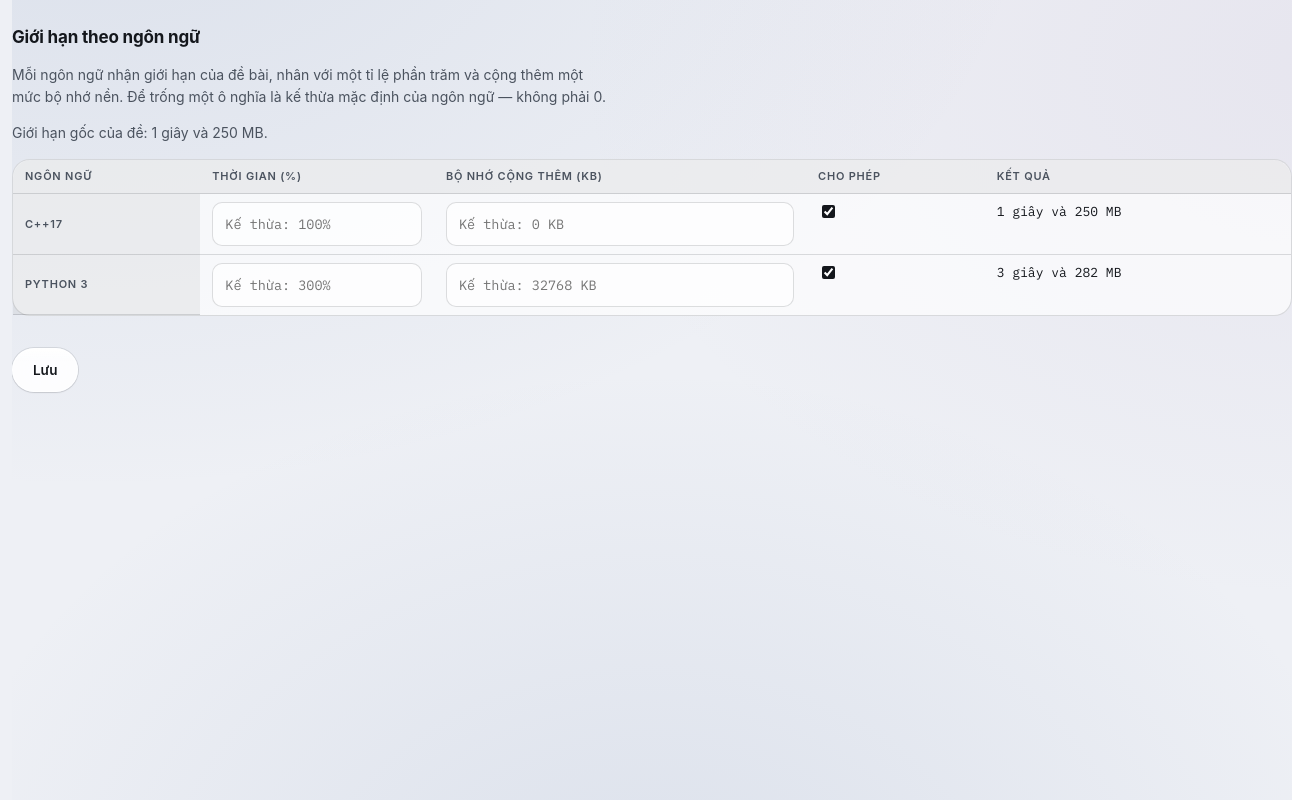
Test: the language-limits tab while a co-setter is saving (D176) › sends the version it was seeded with, and offers the newer one when the save is refused
The width and height of the screenshot is (1292, 800).
Step 1. Type "150" into the number field named "Tỉ lệ thời gian cho C++17, tính theo phần trăm" → [317, 224], box [212,202,422,246]
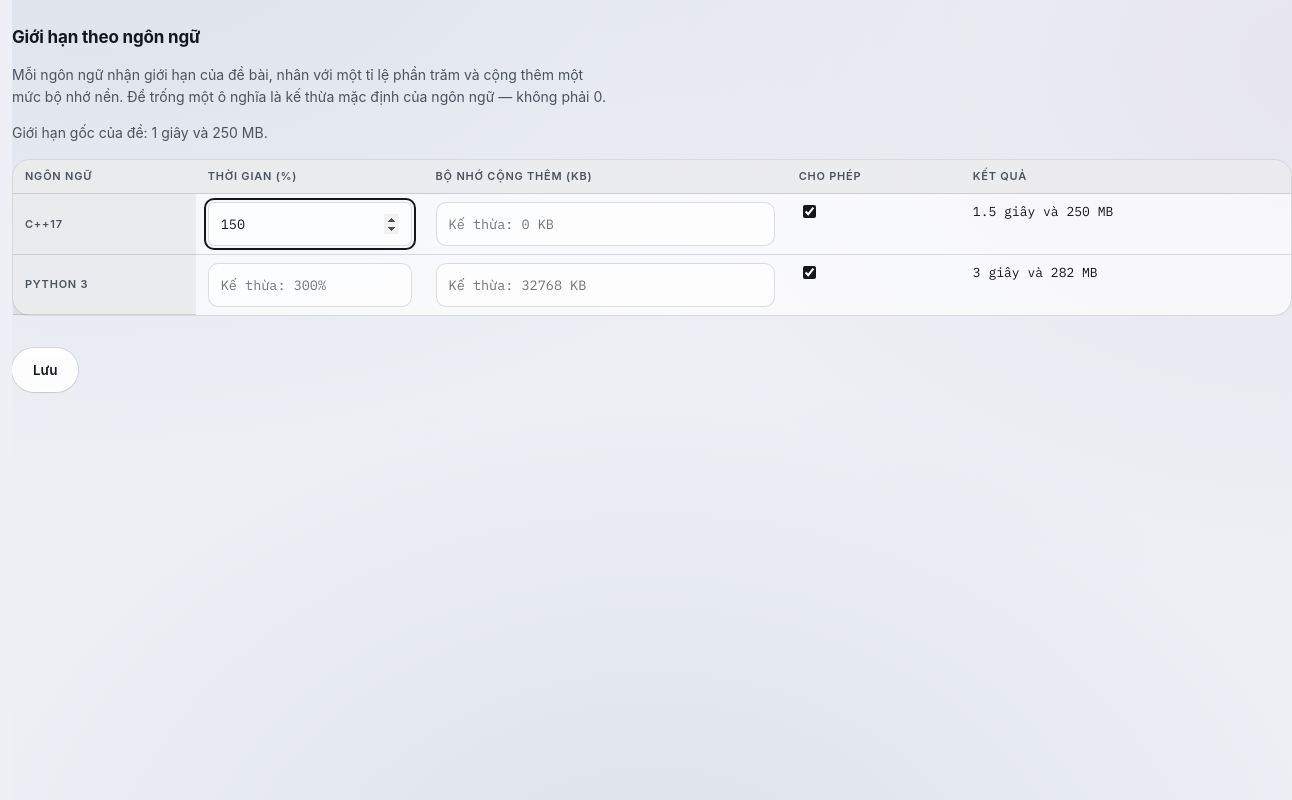
Step 2. Click the button "Lưu" → [45, 370], box [12,348,78,392]
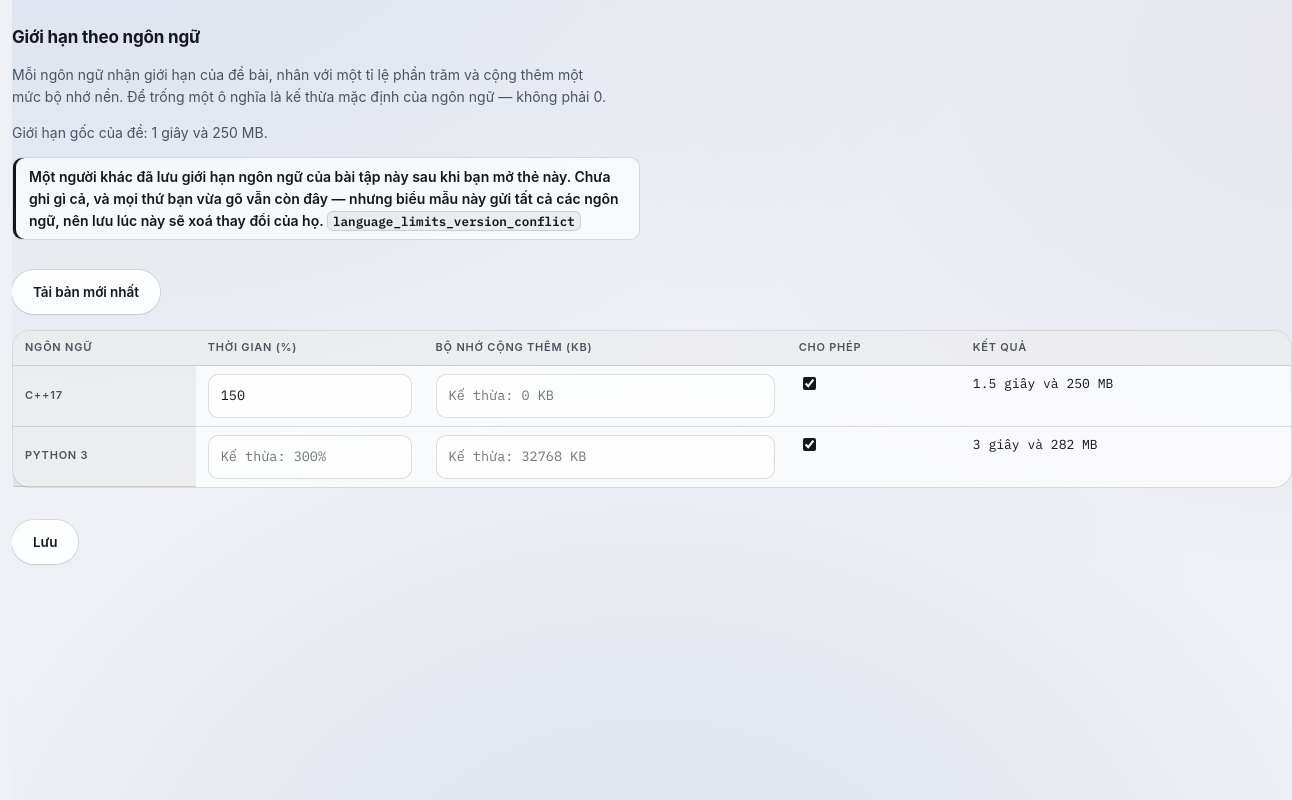
Expected: the text "Một người khác đã lưu giới hạn ngôn ngữ" is shown, [29,168,619,229]
Step 3. Click the button "Tải bản mới nhất" → [86, 292], box [12,270,160,314]
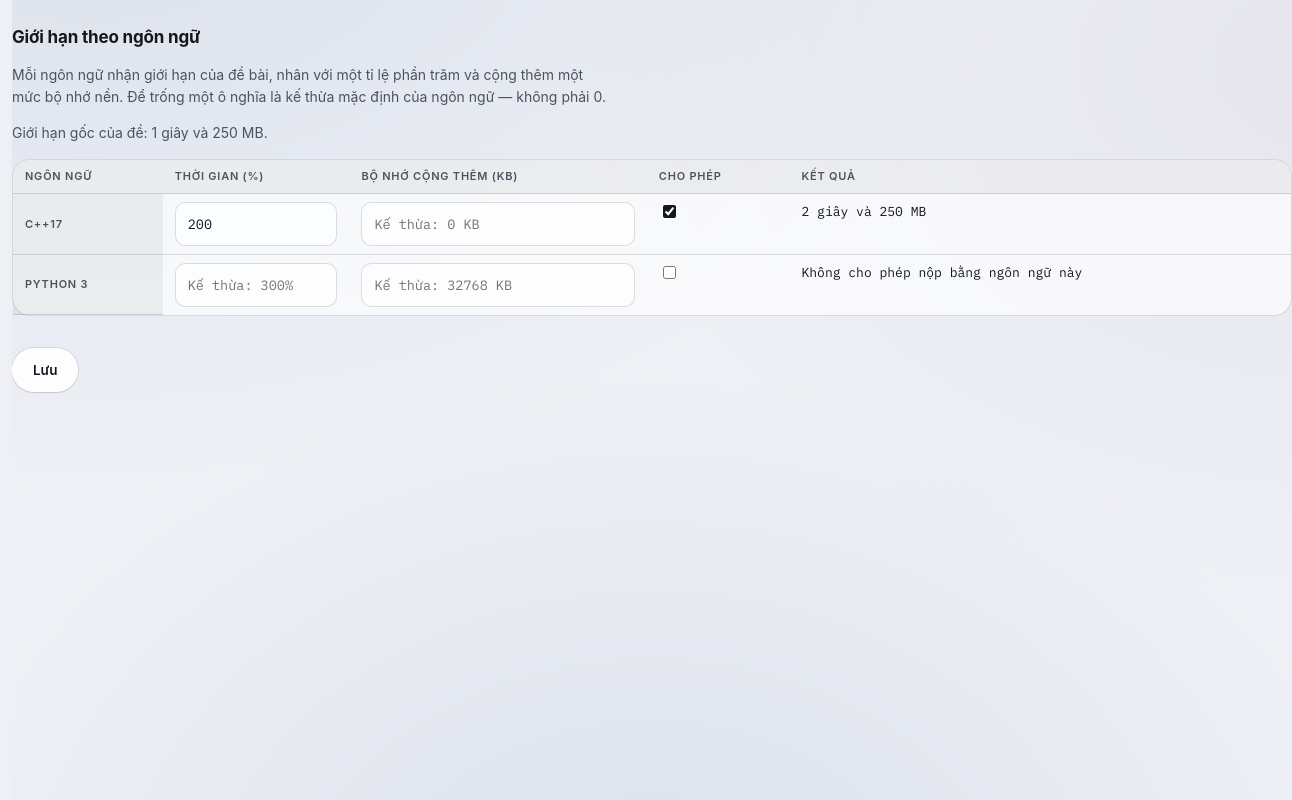
Expected: the number field named "Tỉ lệ thời gian cho C++17, tính theo phần trăm" holds "200", [175,202,337,246]
Expected: the button "Tải bản mới nhất" is gone
